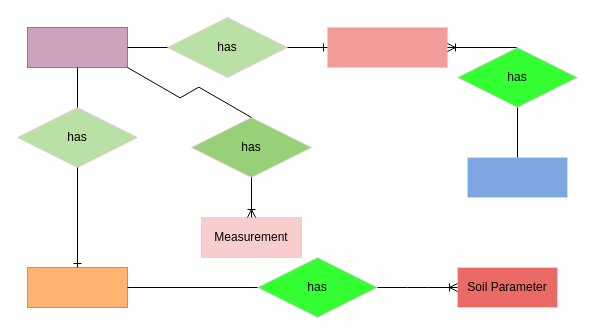
This 595x335 diagram has some shape labels left out. The centre of each missing label's shape, as x and y in pixels:
"Area" belongs at point (517, 177).
"Location" belongs at point (387, 47).
"Sample" belongs at point (77, 47).
"Soil" belongs at point (77, 287).
